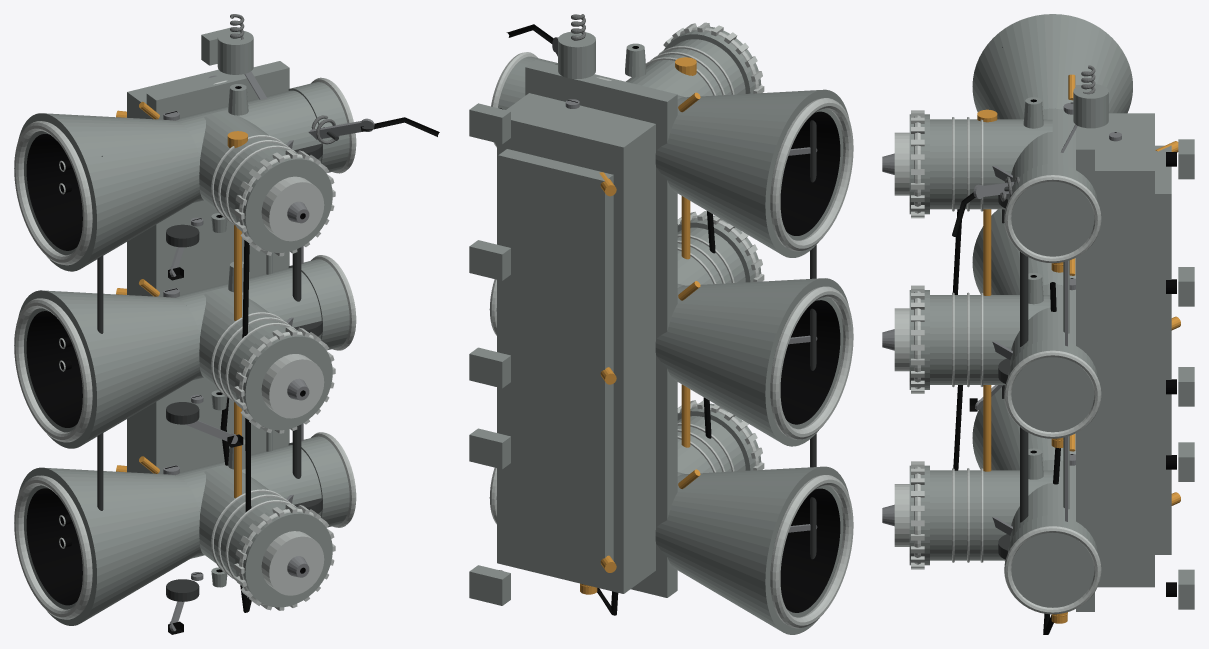
File: carb_triple_02_racing_velocitystack.obj
3 views of the same model, side by side, from view 1: azimuth 30°, elevation 25°; view 2: azimuth 150°, elevation 25°; view 3: azimuth 270°, elevation 25° (orthographic). The views are drawn at different scales.
Parts seen in each view (by area): view 1: shared_base_plate, race_2_bellmouth, race_0_bellmouth, race_1_bellmouth, race_0_bellmouth_inner, race_1_bellmouth_inner, race_2_bellmouth_inner, race_2_slide_tower, race_0_slide_tower, race_1_slide_tower, race_0_cap_lower, race_1_cap_lower (+28 smaller); view 2: shared_bowl_sump, shared_rect_float_bowl, race_1_bellmouth, race_2_bellmouth, race_0_bellmouth, shared_base_plate, mount_foot, race_2_bellmouth_inner, race_0_bellmouth_inner, race_1_bellmouth_inner, race_1_bell_lip, race_2_bell_lip (+15 smaller); view 3: shared_rect_float_bowl, race_2_bellmouth, race_0_slide_tower, race_1_slide_tower, race_2_slide_tower, shared_bowl_sump, race_0_rear_spigot, race_1_rear_spigot, race_2_rear_spigot, shared_base_plate, mount_foot, race_1_bellmouth (+22 smaller).
Boxes of the visible parts, bbox=[...] form: shared_base_plate: bbox=[146, 61, 289, 558]; race_2_bellmouth: bbox=[45, 113, 199, 267]; race_0_bellmouth: bbox=[44, 467, 199, 622]; race_1_bellmouth: bbox=[45, 290, 199, 445]; race_0_bellmouth_inner: bbox=[26, 488, 82, 605]; race_1_bellmouth_inner: bbox=[26, 311, 82, 427]; race_2_bellmouth_inner: bbox=[26, 134, 82, 250]; race_2_slide_tower: bbox=[199, 111, 286, 222]; race_0_slide_tower: bbox=[199, 465, 286, 576]; race_1_slide_tower: bbox=[199, 288, 286, 399]; race_0_cap_lower: bbox=[235, 506, 332, 607]; race_1_cap_lower: bbox=[235, 329, 332, 430]; shared_bowl_sump: bbox=[498, 149, 613, 567]; shared_rect_float_bowl: bbox=[497, 93, 655, 593]; race_1_bellmouth: bbox=[655, 278, 820, 442]; race_2_bellmouth: bbox=[655, 90, 820, 254]; race_0_bellmouth: bbox=[655, 466, 820, 631]; shared_base_plate: bbox=[525, 60, 677, 597]; mount_foot: bbox=[469, 103, 510, 605]; race_2_bellmouth_inner: bbox=[780, 111, 840, 235]; race_0_bellmouth_inner: bbox=[780, 488, 840, 612]; race_1_bellmouth_inner: bbox=[780, 300, 840, 424]; race_1_bell_lip: bbox=[770, 286, 853, 439]; race_2_bell_lip: bbox=[770, 98, 853, 251]; shared_rect_float_bowl: bbox=[1095, 113, 1154, 587]; race_2_bellmouth: bbox=[972, 14, 1132, 119]; race_0_slide_tower: bbox=[930, 470, 1052, 560]; race_1_slide_tower: bbox=[930, 295, 1050, 384]; race_2_slide_tower: bbox=[930, 119, 1052, 209]; shared_bowl_sump: bbox=[1155, 145, 1171, 554]; race_0_rear_spigot: bbox=[1008, 515, 1097, 607]; race_1_rear_spigot: bbox=[1008, 339, 1097, 432]; race_2_rear_spigot: bbox=[1008, 164, 1097, 256]; shared_base_plate: bbox=[1076, 85, 1094, 611]; mount_foot: bbox=[1178, 139, 1194, 609]; race_1_bellmouth: bbox=[972, 209, 1075, 294].
Size of the model in its own units: 0.2865 by 0.4639 by 0.229.
